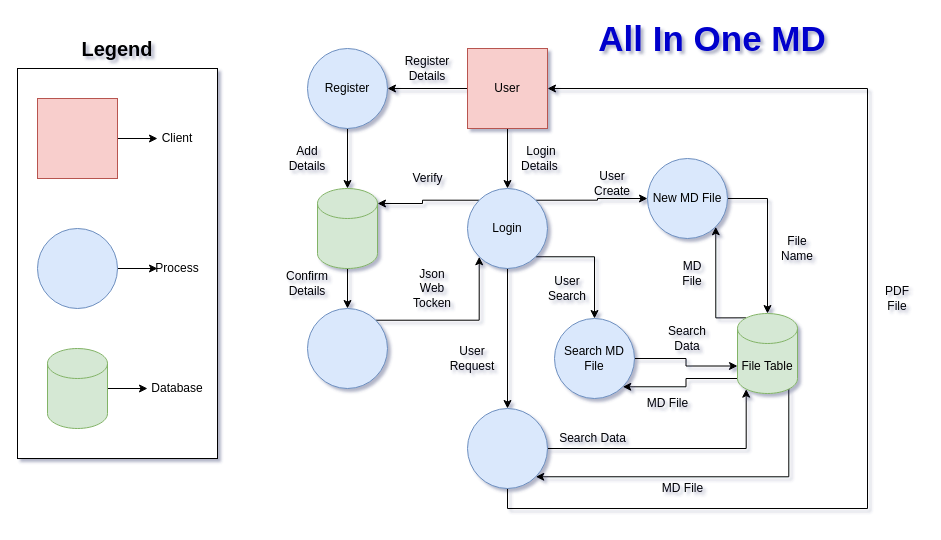
Some shapes in this 941 by 540 pixel diagram are drawn without their labels. Here are the shapes that lost their labels. From the top down, the centre of each, then its label:
At pixel 347 228: "User Table".
At pixel 347 348: "Send Token".
At pixel 507 448: "Convert MD File To PDF".
